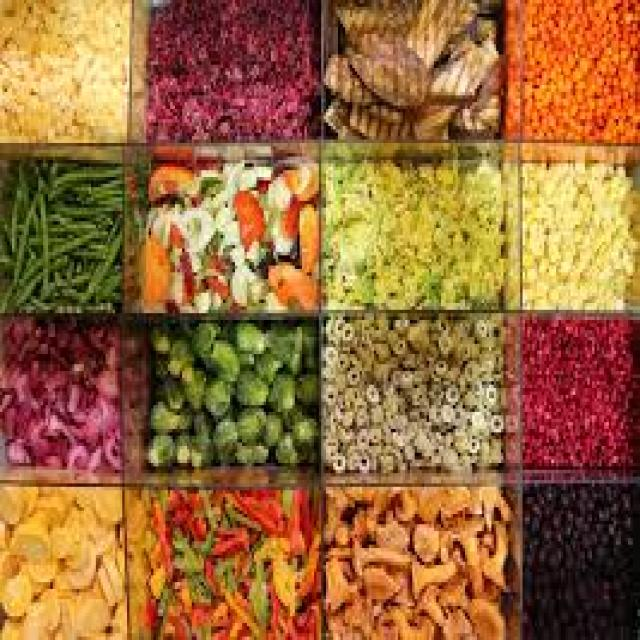organic waste: (316, 313, 501, 470), (321, 484, 508, 636), (132, 484, 319, 636), (322, 150, 504, 303), (137, 157, 314, 303), (146, 0, 316, 136), (0, 313, 137, 477), (503, 156, 638, 306), (506, 317, 638, 463), (0, 484, 122, 636), (506, 0, 638, 140), (0, 156, 122, 306), (522, 480, 638, 637), (0, 0, 125, 140), (348, 37, 429, 109), (405, 0, 477, 58), (429, 34, 494, 95), (448, 65, 501, 129), (330, 0, 419, 37), (134, 225, 173, 306), (446, 514, 482, 592), (414, 586, 470, 636), (261, 256, 314, 306), (230, 187, 266, 259), (343, 99, 412, 136), (319, 51, 371, 99), (182, 204, 223, 262), (403, 552, 458, 592), (319, 555, 359, 609), (142, 160, 194, 201), (345, 534, 405, 568), (259, 323, 302, 368), (408, 92, 450, 136), (479, 511, 506, 578), (295, 197, 316, 276), (201, 368, 235, 415), (463, 596, 501, 636), (228, 368, 266, 408), (280, 156, 316, 198), (206, 337, 237, 385), (290, 408, 319, 459), (223, 256, 252, 306), (149, 371, 187, 409), (230, 402, 266, 439), (142, 426, 178, 463), (187, 408, 213, 459), (216, 194, 240, 245), (187, 316, 216, 358), (177, 361, 204, 405), (202, 374, 232, 412), (264, 368, 292, 408), (273, 422, 300, 463), (170, 416, 192, 466), (146, 398, 178, 432), (166, 333, 190, 378), (232, 320, 262, 354), (226, 436, 268, 460), (321, 96, 350, 130), (292, 371, 314, 412), (148, 320, 172, 357), (302, 324, 314, 382), (254, 344, 278, 371)
